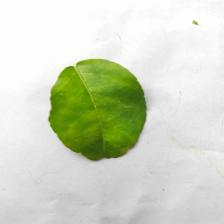greening: (68, 75, 126, 138)
